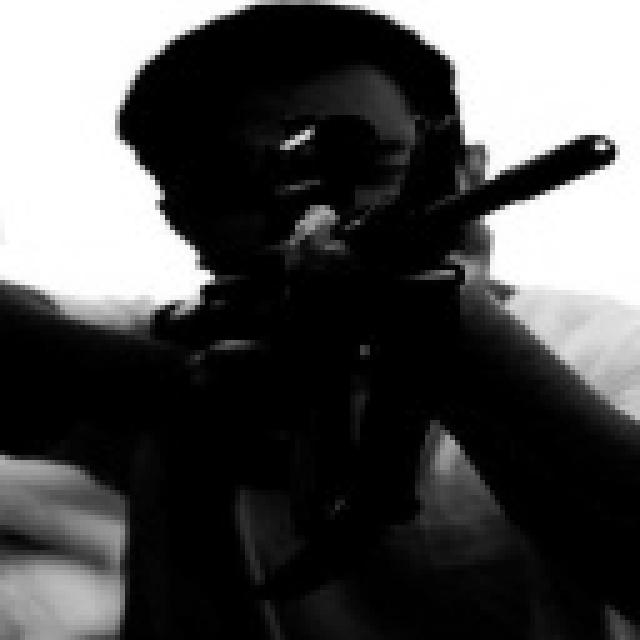Rifle: (119, 122, 640, 600)
